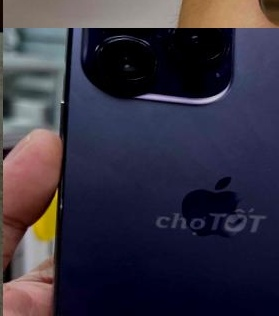scratch: (104, 28, 191, 68), (274, 152, 279, 167)
